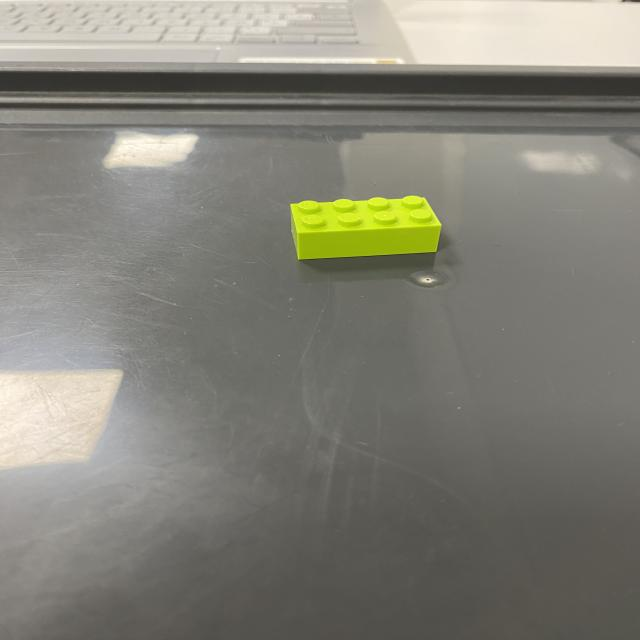C4x2x1: (292, 195, 442, 231), (298, 224, 442, 260)
